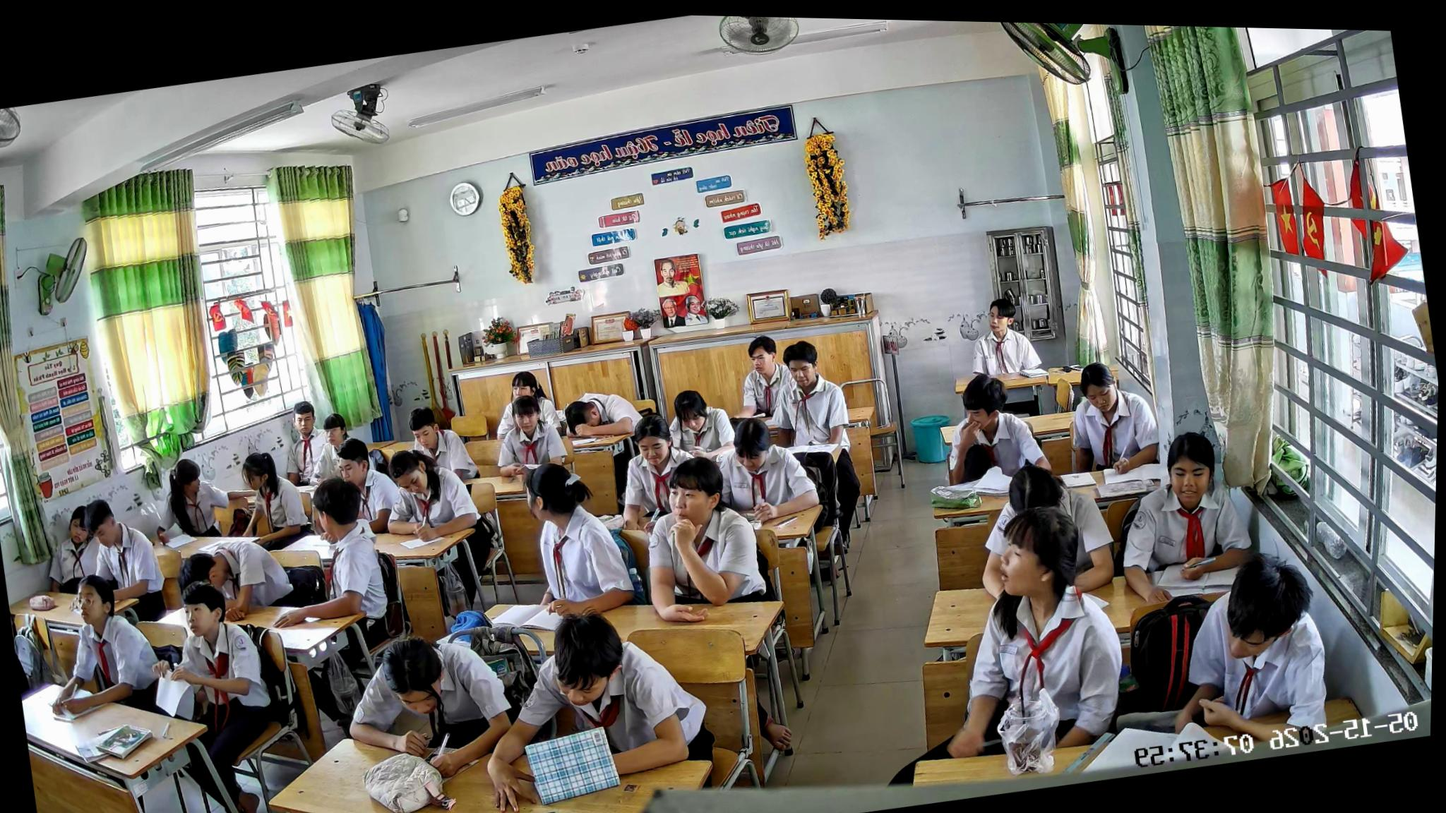person: (845, 492, 1144, 788), (1088, 540, 1342, 769), (463, 593, 722, 813), (253, 471, 410, 736), (151, 570, 304, 813), (334, 623, 525, 793), (1100, 424, 1266, 615), (629, 447, 776, 631), (29, 565, 181, 729), (965, 455, 1124, 609), (755, 334, 871, 539), (375, 438, 504, 614), (516, 453, 643, 622), (603, 403, 723, 540), (933, 365, 1056, 488), (70, 490, 174, 633), (1054, 353, 1166, 482), (706, 406, 823, 529), (172, 530, 300, 632), (144, 447, 268, 549), (228, 446, 317, 551), (330, 431, 409, 541), (488, 389, 572, 480), (961, 292, 1045, 381), (294, 407, 383, 489), (726, 331, 802, 425), (403, 401, 481, 492), (661, 383, 741, 471), (38, 503, 103, 597), (486, 366, 562, 444), (273, 398, 337, 489), (559, 383, 647, 449)
